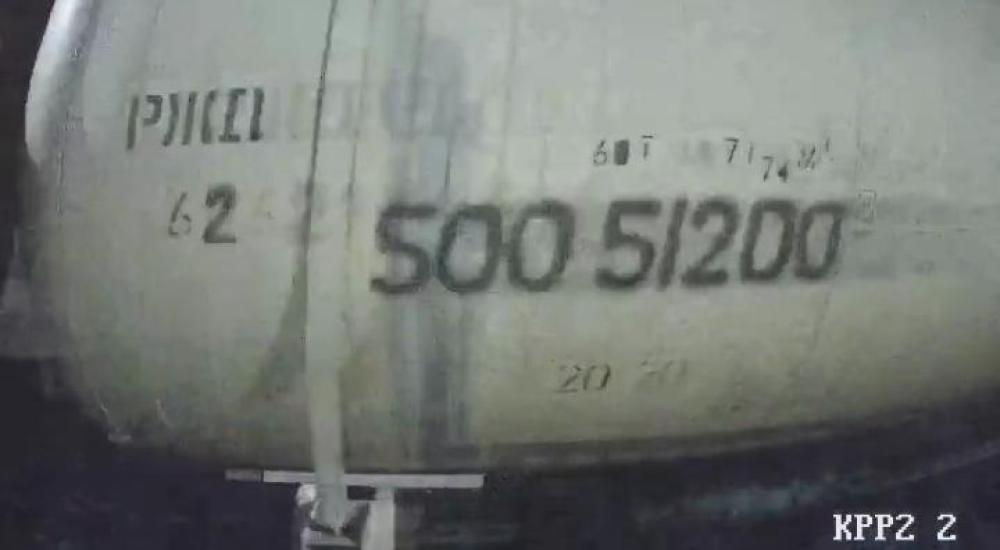Wagon-number: (362, 187, 852, 302)
